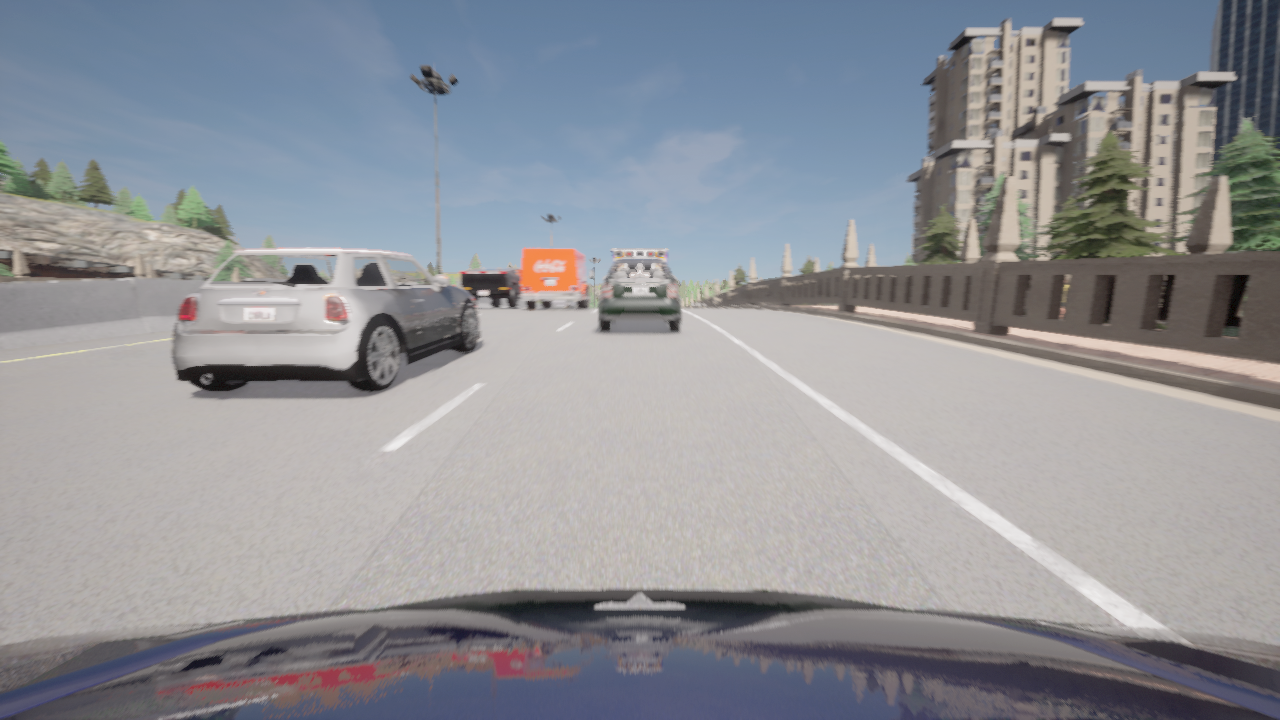cyclist: (0, 588, 1279, 719), (172, 248, 479, 392), (599, 258, 680, 332), (520, 248, 592, 309), (460, 268, 521, 308), (612, 249, 667, 264), (551, 301, 575, 308)
pedestrian: (1060, 276, 1068, 320)
